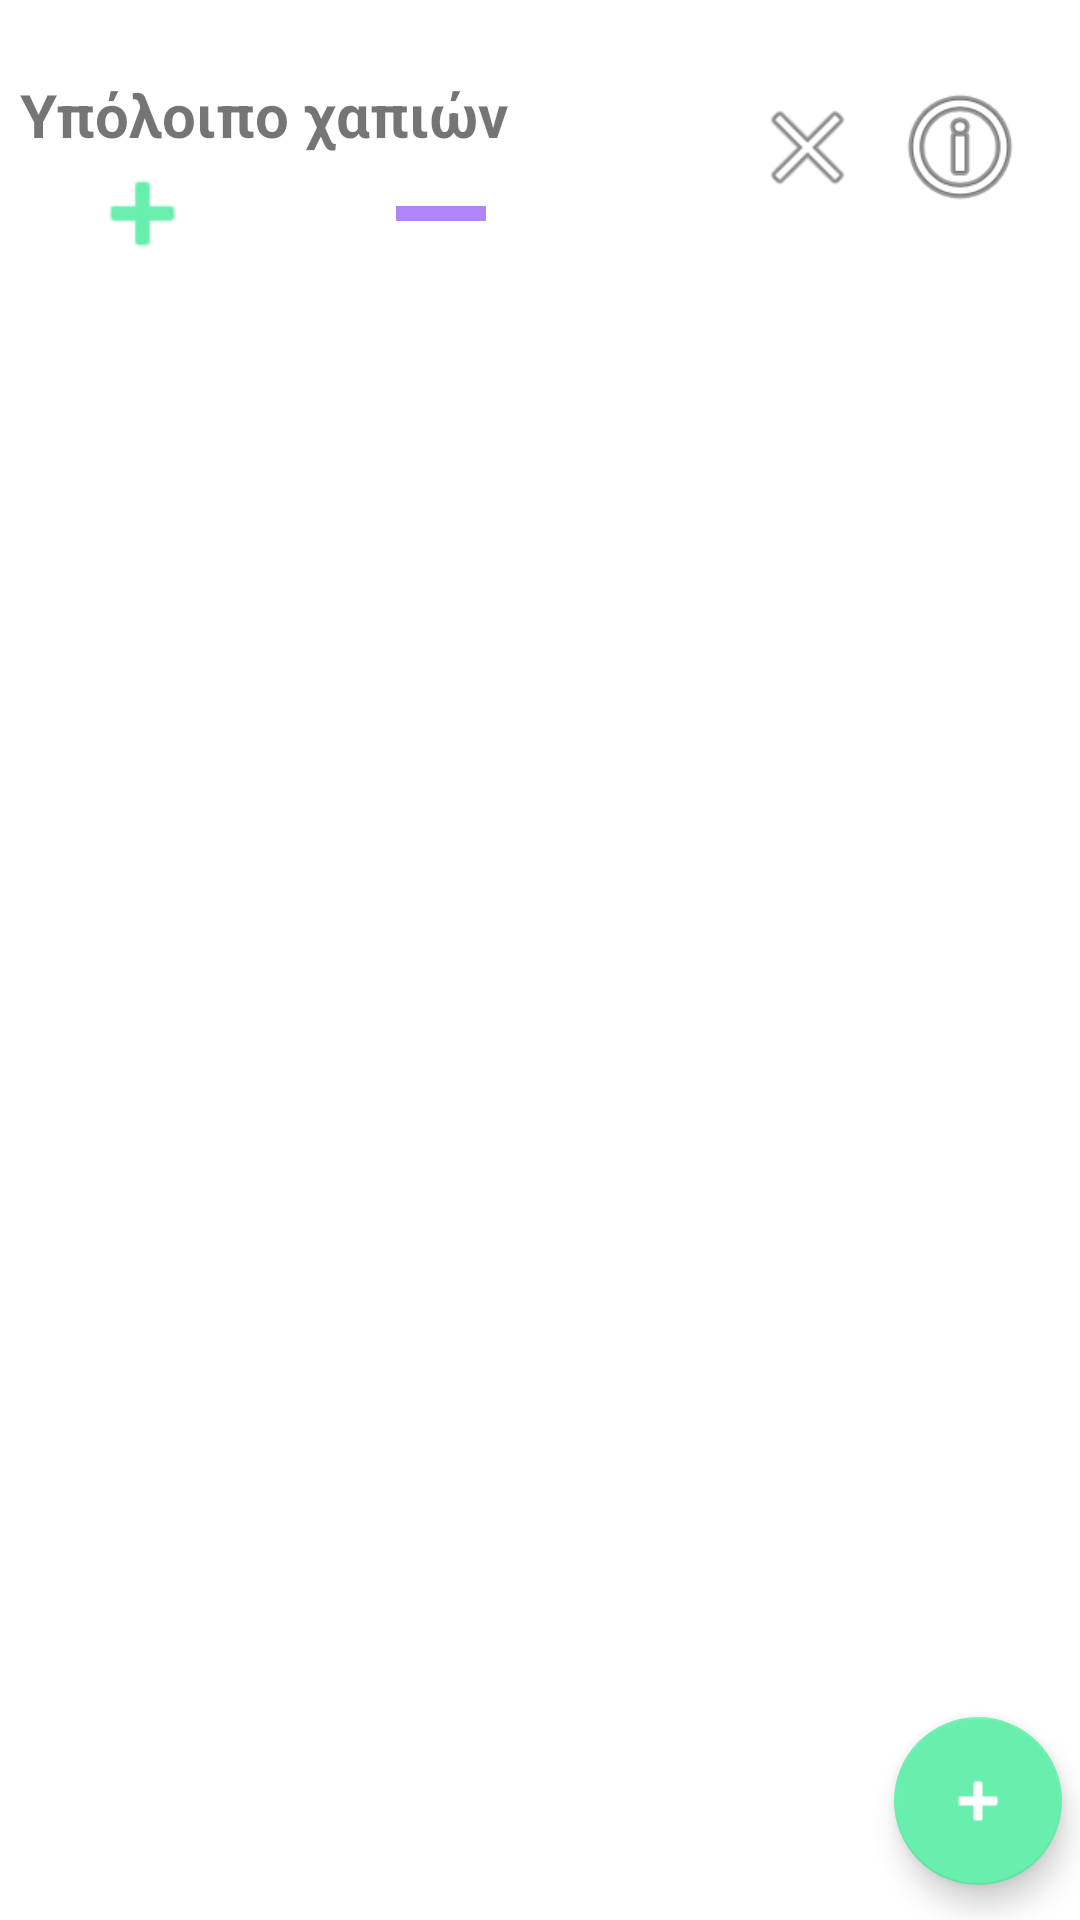

Named icons in this screenshot (1080x1920) and their centers, (x,y):
delete items: (807,147)
increase button: (142,213)
info: (960,147)
just a plus button to add referrals: (978,1801)
